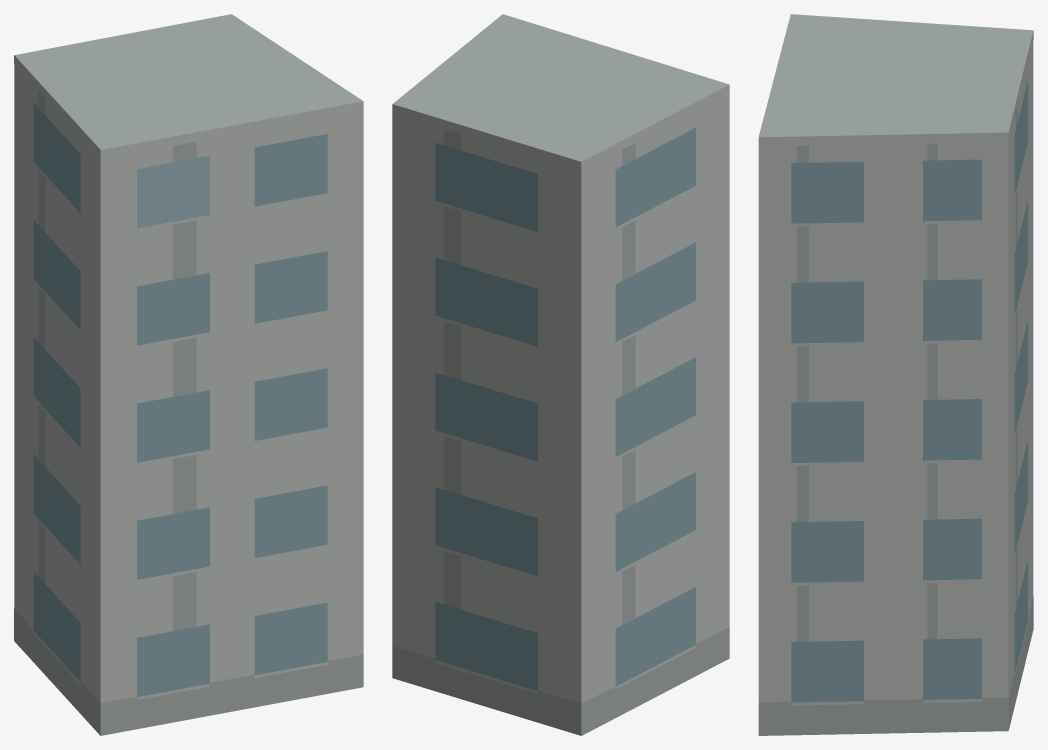
File: survey-upis-32479048.glb
3 views of the same model, side by side, from view 1: azimuth 30°, elevation 25°; view 2: azimuth 150°, elevation 25°; view 3: azimuth 270°, elevation 25° (orthographic). The views are drawn at different scales.
Visible parts, largest first — view 1: survey-upis-32479048.tmp; view 2: survey-upis-32479048.tmp; view 3: survey-upis-32479048.tmp.
Boxes of the visible parts, x1,y1,x2,y2 form: survey-upis-32479048.tmp: [14, 14, 363, 735]; survey-upis-32479048.tmp: [392, 14, 729, 735]; survey-upis-32479048.tmp: [758, 14, 1033, 735].
Bounding box in the file's own units: 6.74 × 15.25 × 6.36.
